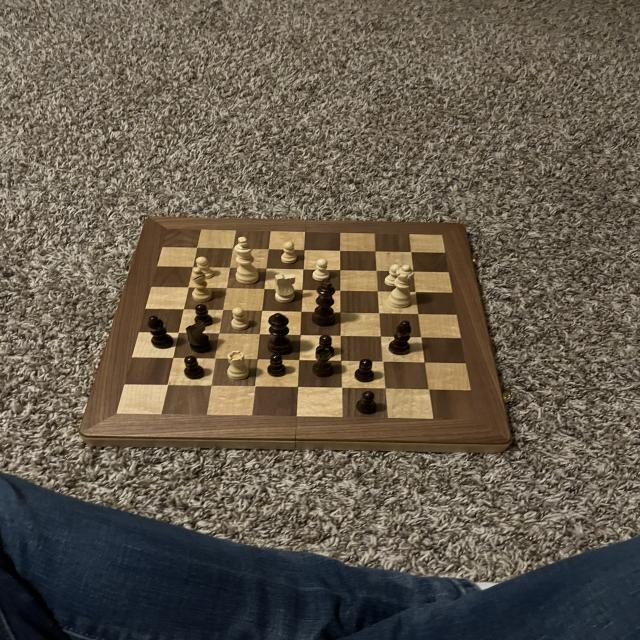bishop: (145, 315, 176, 350), (387, 318, 414, 356)
black-bishop: (312, 280, 338, 329)
black-king: (185, 319, 213, 353)
black-knight: (350, 356, 378, 384), (354, 389, 379, 416), (313, 334, 339, 358), (182, 355, 205, 381), (266, 352, 288, 378), (193, 303, 215, 327)
black-pawn: (265, 312, 297, 356)
black-queen: (310, 346, 337, 379)
black-rook: (188, 264, 215, 304)
white-bishop: (232, 233, 262, 286)
white-king: (273, 272, 298, 304)
white-knight: (310, 257, 332, 282), (230, 306, 250, 332), (193, 256, 214, 280), (384, 263, 404, 287), (280, 241, 298, 264)
white-pawn: (387, 264, 417, 310)
white-queen: (225, 348, 251, 383)
